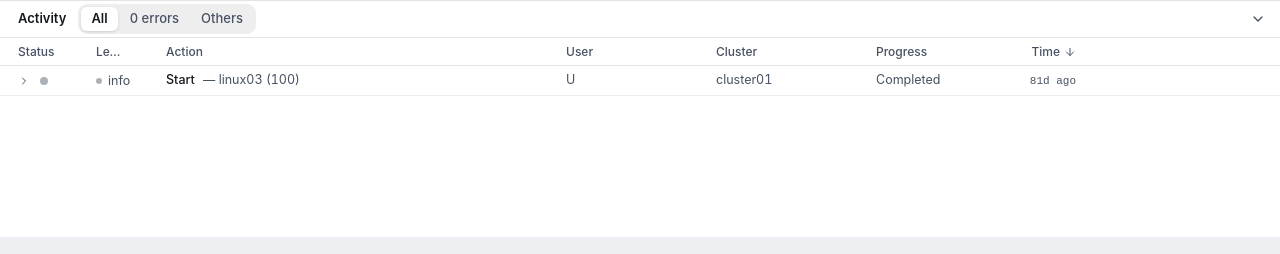
Test: TaskLogPanel › running tasks and the error filter › keeps the filter with no errors to count, says so when it matches nothing, and leaves the way back
Check: the text "— linux03 (100)" is shown, box 203,71 -> 300,90
Click the button "0 errors".
click(154, 19)  # box 120,7 -> 189,31
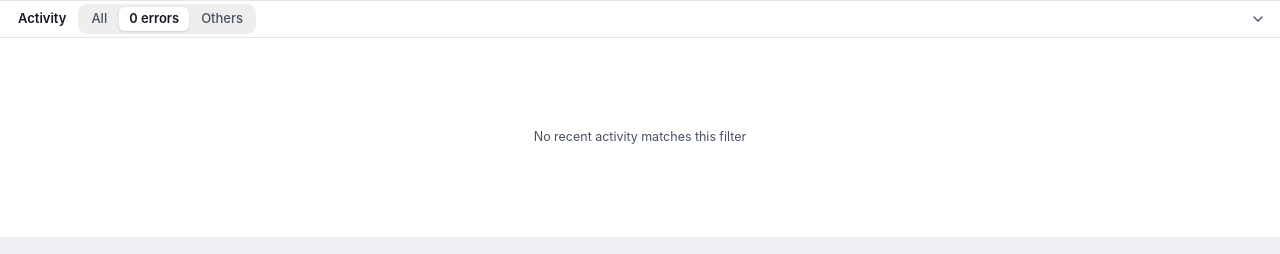
Check: the button "All" is shown, box 81,7 -> 117,31
Check: the text "No recent activity matches this filter" is shown, box 534,129 -> 746,144
